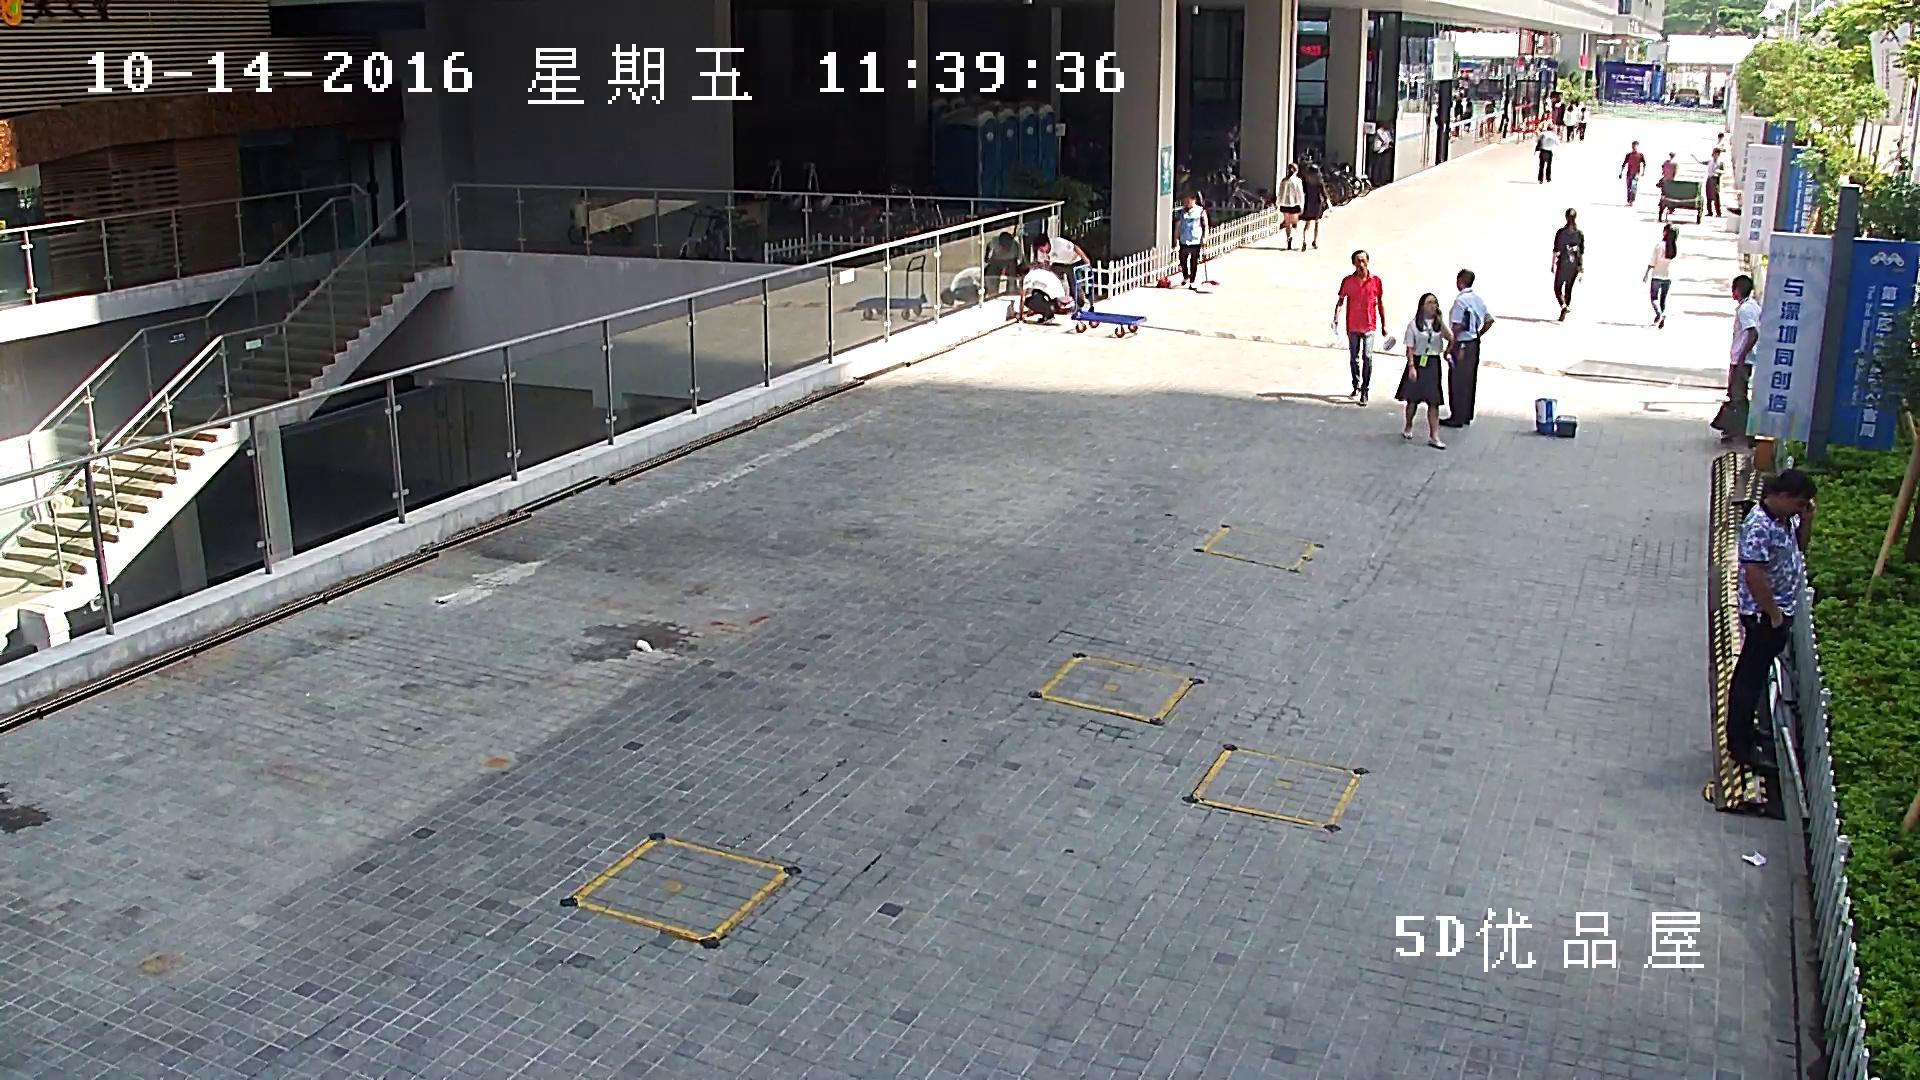person: (1725, 469, 1819, 776), (1333, 249, 1396, 406), (1393, 291, 1454, 450), (1437, 267, 1495, 428), (1708, 274, 1763, 438), (1155, 189, 1220, 291), (1004, 261, 1074, 329), (1034, 232, 1090, 309), (1550, 207, 1585, 322), (1642, 223, 1678, 328), (1171, 190, 1208, 291), (1300, 164, 1330, 255), (1688, 147, 1725, 217), (983, 232, 1022, 298), (1276, 162, 1304, 252), (1618, 139, 1646, 207), (1534, 123, 1560, 184), (1369, 120, 1393, 188), (941, 266, 984, 303), (1563, 104, 1578, 142), (1660, 151, 1678, 182), (1576, 106, 1588, 141), (1453, 99, 1462, 136)
